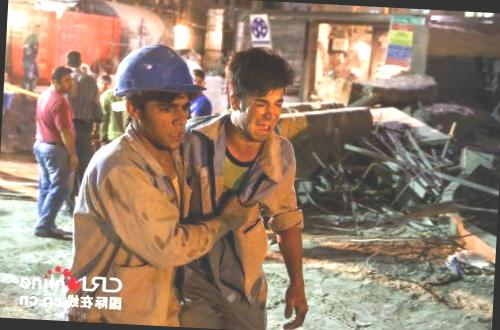no_helmet: (214, 43, 296, 146), (43, 61, 78, 99), (92, 67, 118, 95), (66, 44, 89, 72), (188, 66, 209, 92)
